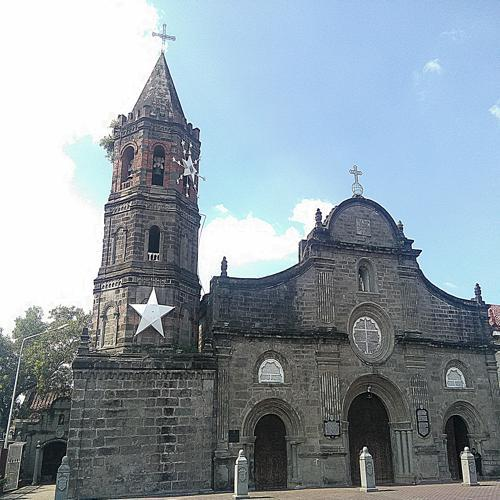Barasoain Church: (63, 17, 500, 489)
